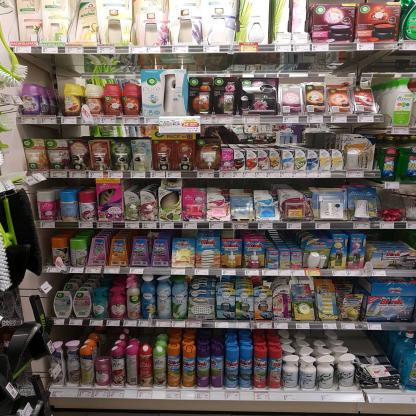empty_space: (40, 54, 64, 115)
